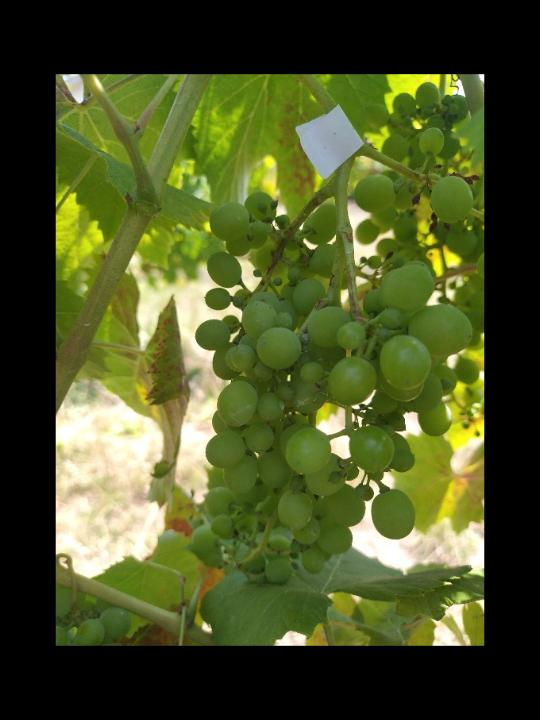grape: (186, 123, 473, 588)
